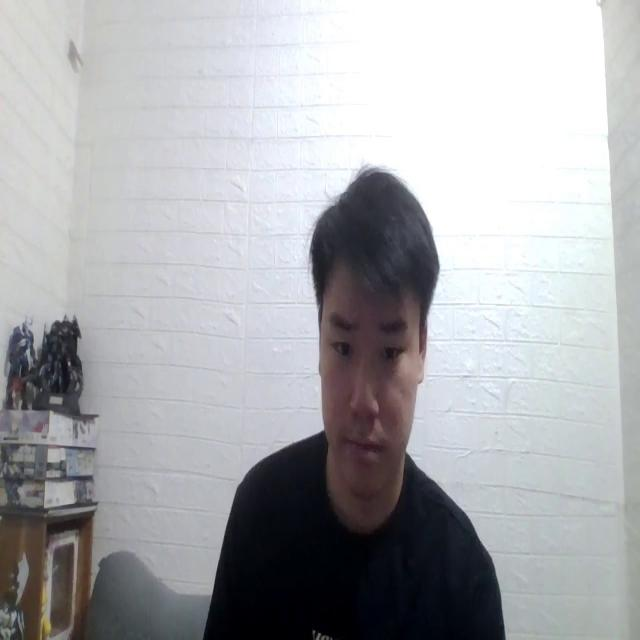student: (200, 163, 505, 640)
